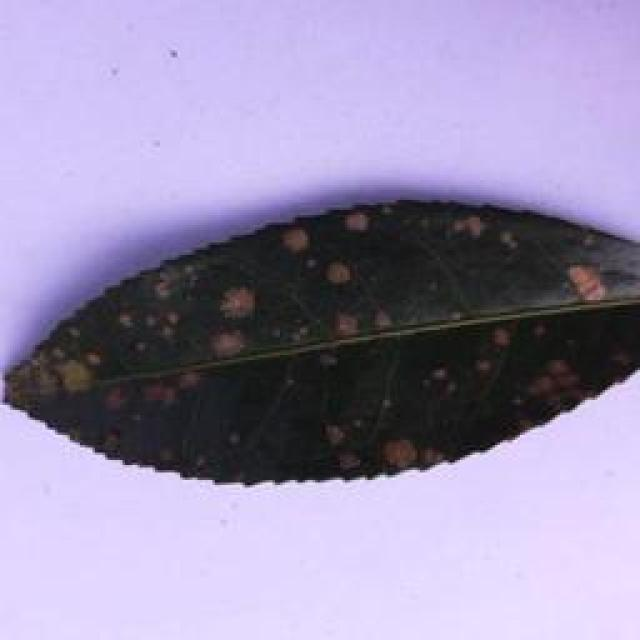Algal Leaf Spot: (7, 202, 636, 497)
